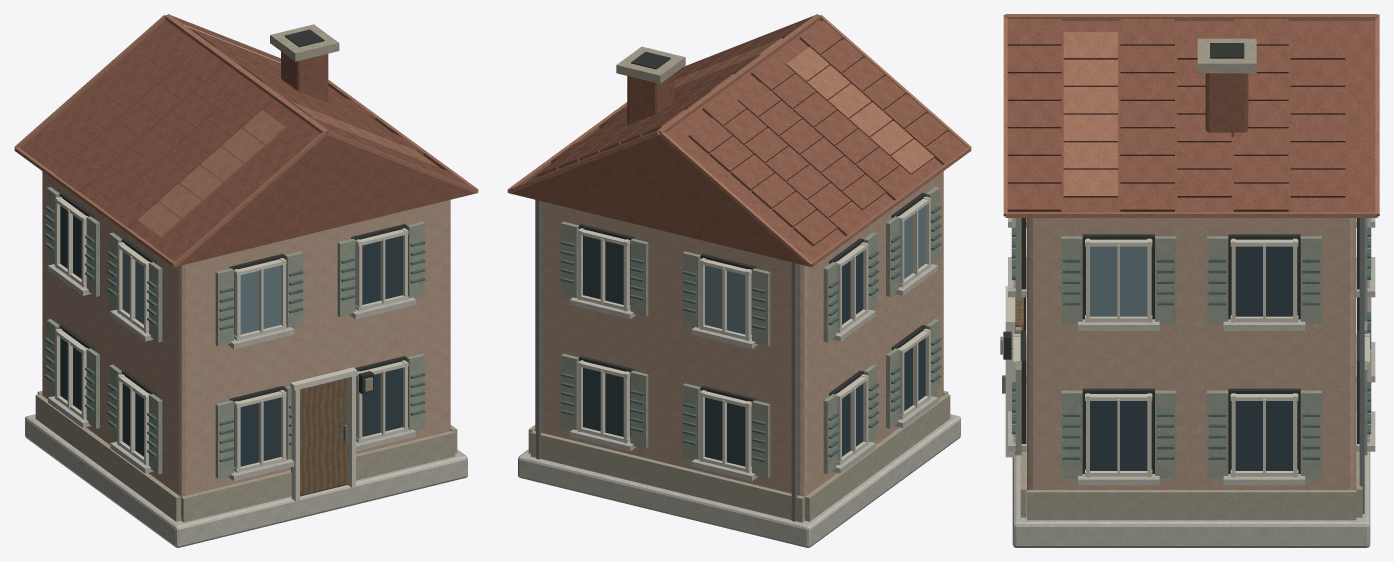
The model's file is RES_LOW_1x1_003.glb.
3 renders of one model, left to right at view 1: azimuth 30°, elevation 25°; view 2: azimuth 150°, elevation 25°; view 3: azimuth 270°, elevation 25°, orthographic. The views are drawn at different scales.
Parts seen in each view (by area): view 1: RES_LOW_1x1_003_Visual; view 2: RES_LOW_1x1_003_Visual; view 3: RES_LOW_1x1_003_Visual.
Part boxes in pixels (bbox=[...]): RES_LOW_1x1_003_Visual: bbox=[14, 14, 478, 547]; RES_LOW_1x1_003_Visual: bbox=[507, 14, 971, 547]; RES_LOW_1x1_003_Visual: bbox=[1000, 14, 1379, 547].
Size of what is drawn, in the model's own units: 1.74 by 2.13 by 1.6.
14 materials, 8 textured.
